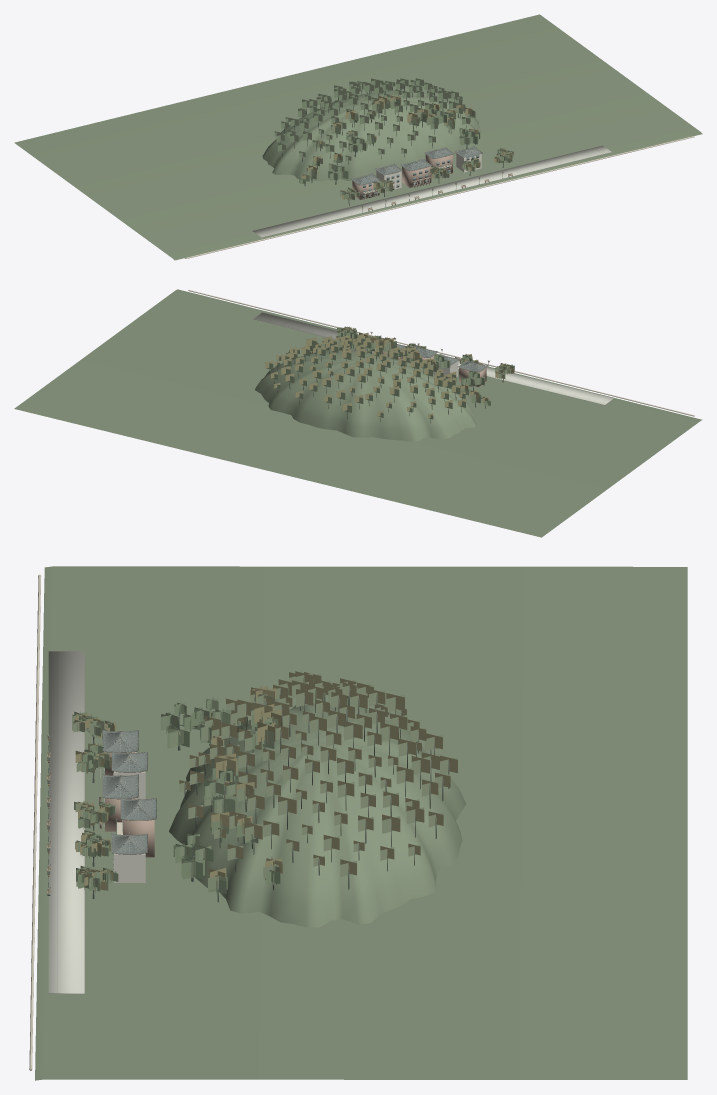
Rendered from beishan.glb.
3 renders of one model, top to bottom at view 1: azimuth 30°, elevation 25°; view 2: azimuth 150°, elevation 25°; view 3: azimuth 270°, elevation 25°, orthographic. The views are drawn at different scales.
Parts seen in each view (by area): view 1: earth, crown1, crown0, paving, crown2, stoneedge, brick, roof, bark, ridge, plaster; view 2: earth, crown2, crown0, paving, crown1, stoneedge, bark, roof; view 3: earth, crown2, crown1, paving, crown0, roof, ridge, bark, stoneedge, plaster, brick.
Boxes of the visible parts, bbox=[...] form: earth: bbox=[14, 14, 702, 260]; crown1: bbox=[274, 78, 514, 200]; crown0: bbox=[274, 79, 513, 199]; paving: bbox=[252, 145, 611, 237]; crown2: bbox=[301, 77, 513, 199]; stoneedge: bbox=[185, 136, 694, 258]; brick: bbox=[352, 154, 452, 199]; roof: bbox=[352, 146, 482, 184]; bark: bbox=[280, 84, 503, 205]; ridge: bbox=[351, 147, 503, 206]; plaster: bbox=[376, 153, 481, 191]; earth: bbox=[14, 289, 702, 537]; crown2: bbox=[265, 327, 514, 418]; crown0: bbox=[265, 326, 514, 419]; paving: bbox=[253, 312, 613, 404]; crown1: bbox=[288, 327, 512, 406]; stoneedge: bbox=[188, 289, 694, 416]; bark: bbox=[269, 335, 505, 423]; roof: bbox=[397, 344, 486, 371]; earth: bbox=[35, 566, 687, 1080]; crown2: bbox=[74, 671, 457, 890]; crown1: bbox=[72, 673, 457, 892]; paving: bbox=[48, 651, 84, 993]; crown0: bbox=[74, 697, 280, 893]; roof: bbox=[103, 730, 156, 853]; ridge: bbox=[47, 728, 156, 875]; bark: bbox=[85, 678, 449, 902]; stoneedge: bbox=[29, 574, 122, 1070]; plaster: bbox=[114, 771, 145, 882]; brick: bbox=[99, 752, 154, 857].
Size of the model in its own units: 270 by 28.98 by 146.
